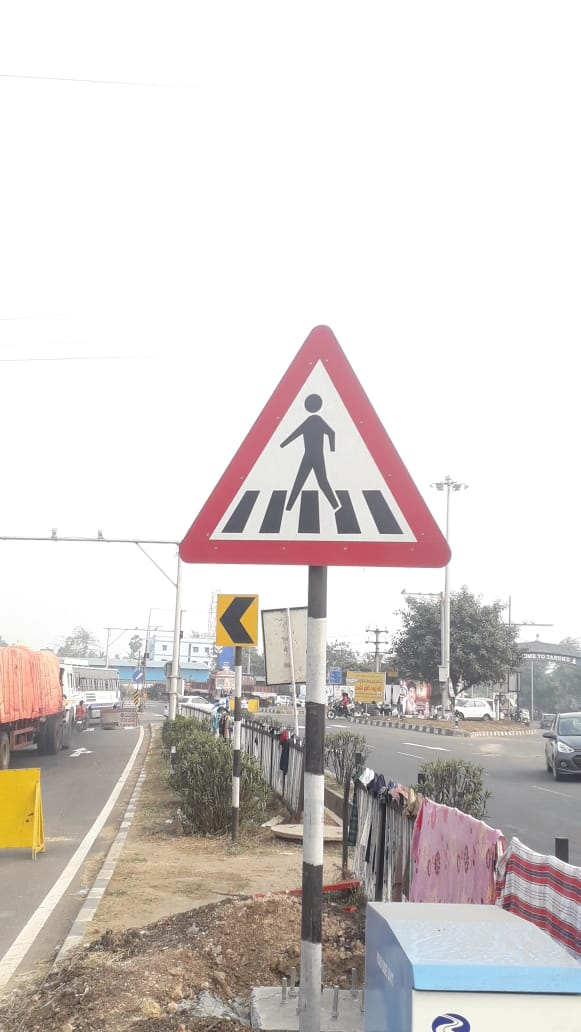pedestrian crossing: (181, 290, 462, 620)
